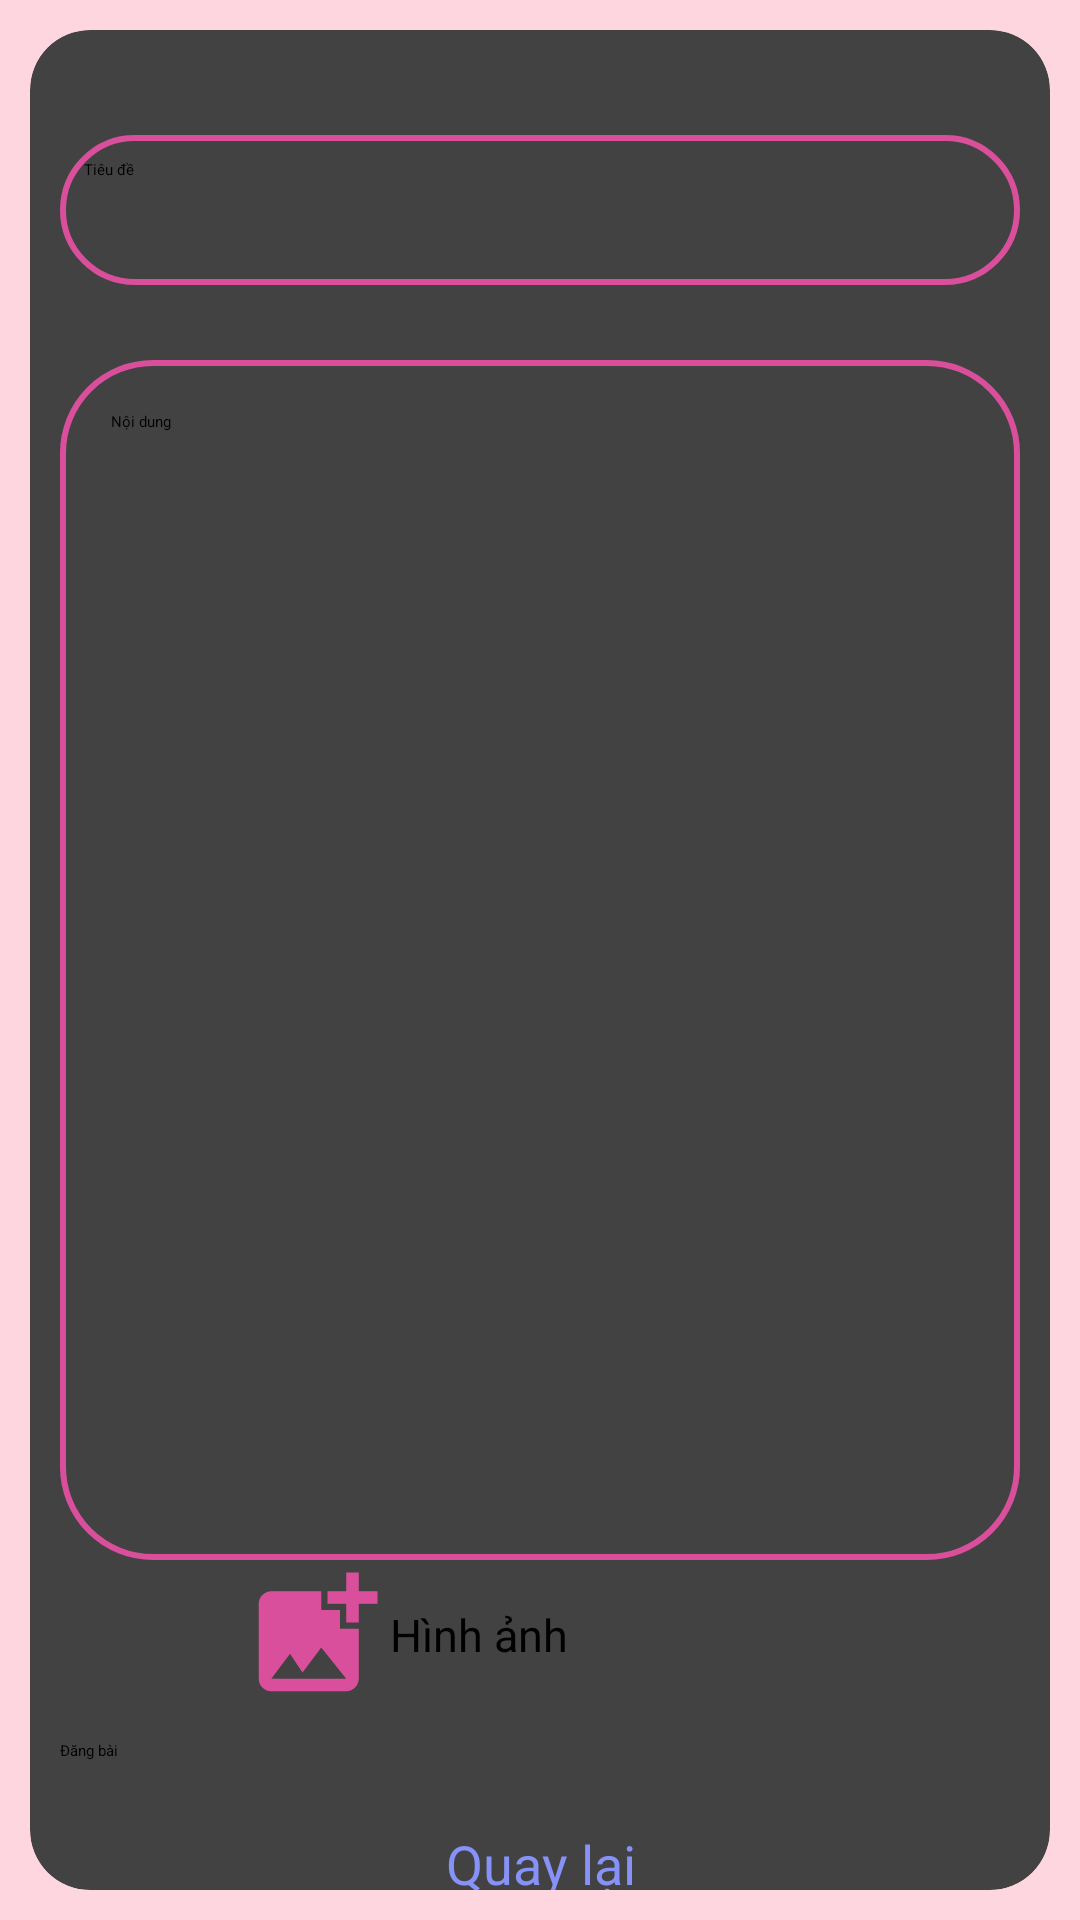

Where to tap for icons on this 1080 x 1920 app screen, as [x,y]:
add: [318,1632]
